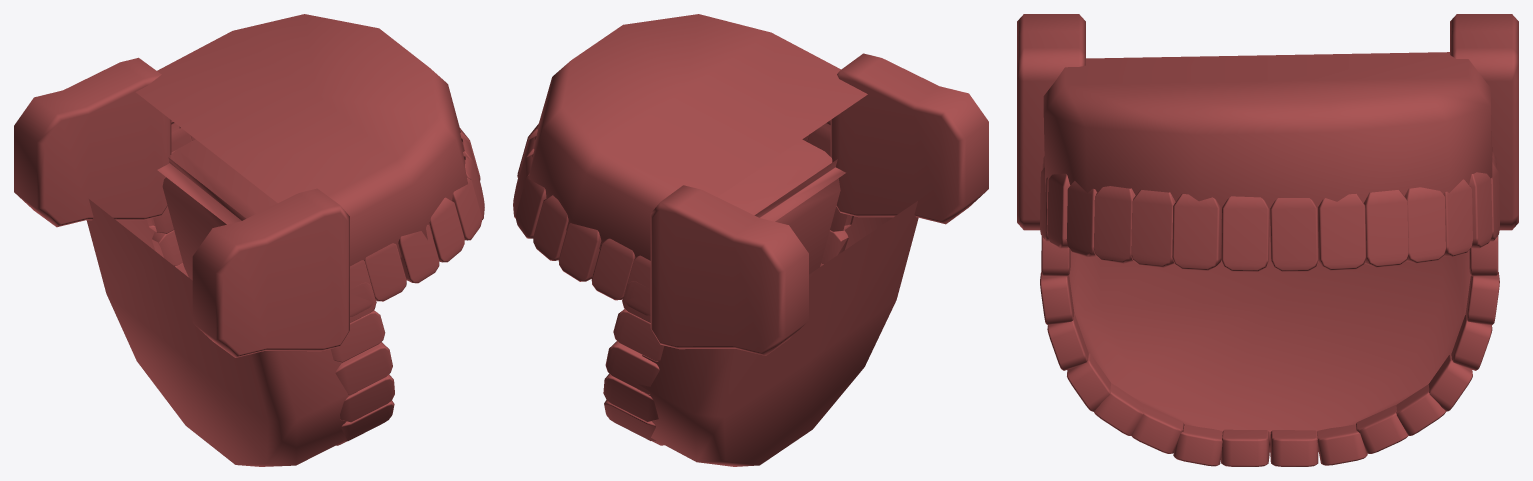
File: Dentier.fbx
3 renders of one model, left to right at view 1: azimuth 30°, elevation 25°; view 2: azimuth 150°, elevation 25°; view 3: azimuth 270°, elevation 25°, orthographic. The views are drawn at different scales.
Parts seen in each view (by area): view 1: polySurface145; view 2: polySurface145; view 3: polySurface145.
Boxes of the visible parts, left/top/right/bottom form: polySurface145: left=14, top=14, right=484, bottom=466; polySurface145: left=513, top=14, right=988, bottom=466; polySurface145: left=1017, top=14, right=1518, bottom=466.
Bounding box in the file's own units: 30.14 × 31.03 × 32.36.
